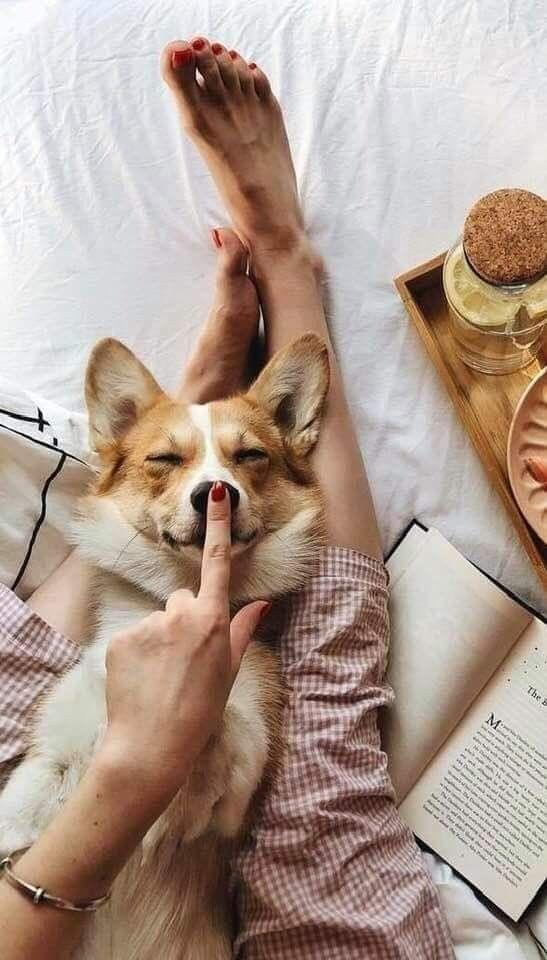adult_dog: (4, 333, 333, 960)
